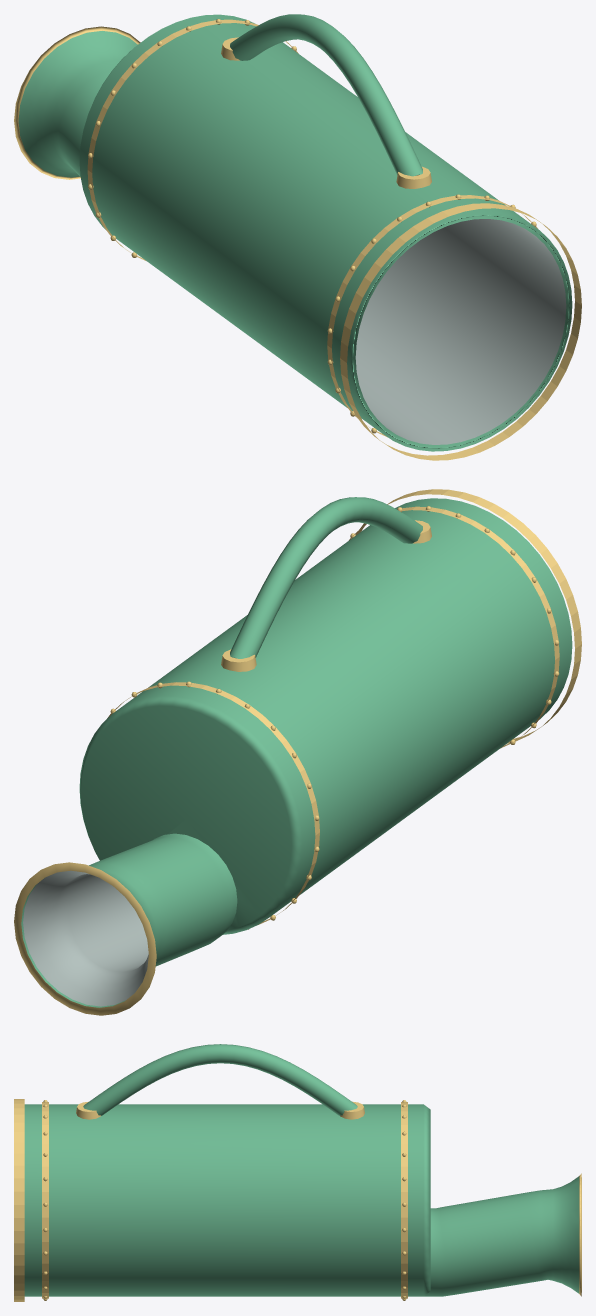
Rendered from giesskanne.glb.
3 views of the same model, one above another, from view 1: azimuth 30°, elevation 25°; view 2: azimuth 150°, elevation 25°; view 3: azimuth 270°, elevation 25° (orthographic). The views are drawn at different scales.
Visible parts, largest first — view 1: giesskanne_lod0; view 2: giesskanne_lod0; view 3: giesskanne_lod0.
Boxes of the visible parts, x1,y1,x2,y2 form: giesskanne_lod0: (14,14,581,460); giesskanne_lod0: (14,489,581,1015); giesskanne_lod0: (14,1044,581,1301).
Size of what is drawn, in the model's own units: 23.2 by 31.22 by 64.9.
